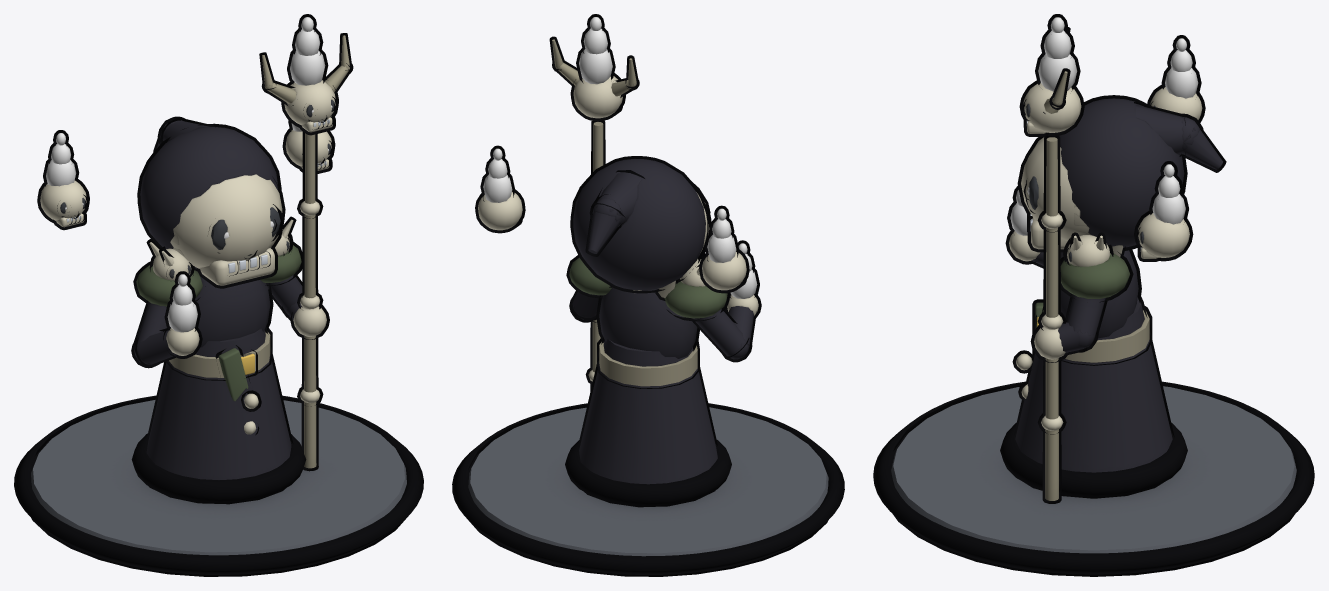
The model's file is necromancer.fbx.
3 renders of one model, left to right at view 1: azimuth 30°, elevation 25°; view 2: azimuth 150°, elevation 25°; view 3: azimuth 270°, elevation 25°, orthographic. The views are drawn at different scales.
Parts seen in each view (by area): view 1: necromancer; view 2: necromancer; view 3: necromancer.
Part boxes in pixels (x1,y1,x2,y2): necromancer: (14, 14, 423, 576); necromancer: (452, 14, 844, 576); necromancer: (873, 14, 1314, 576).
Bounding box in the file's own units: 1.58 × 2.02 × 1.58.
2 materials, 1 textured.
